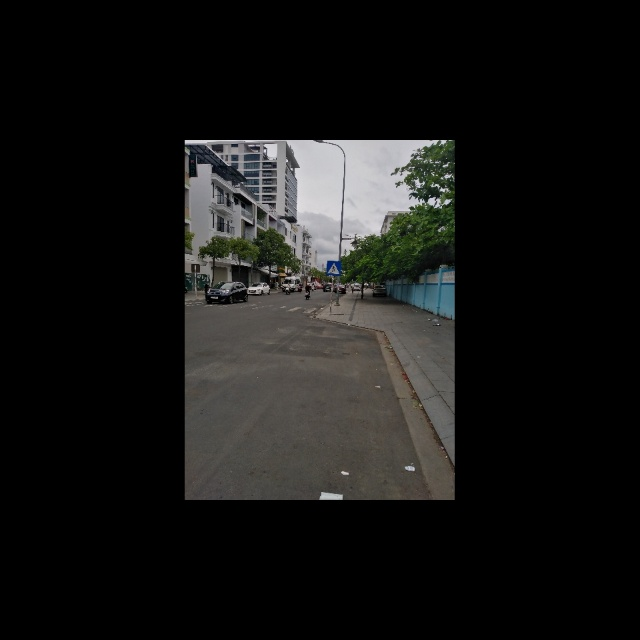Đường dành cho người đi bộ: (326, 260, 342, 276)
